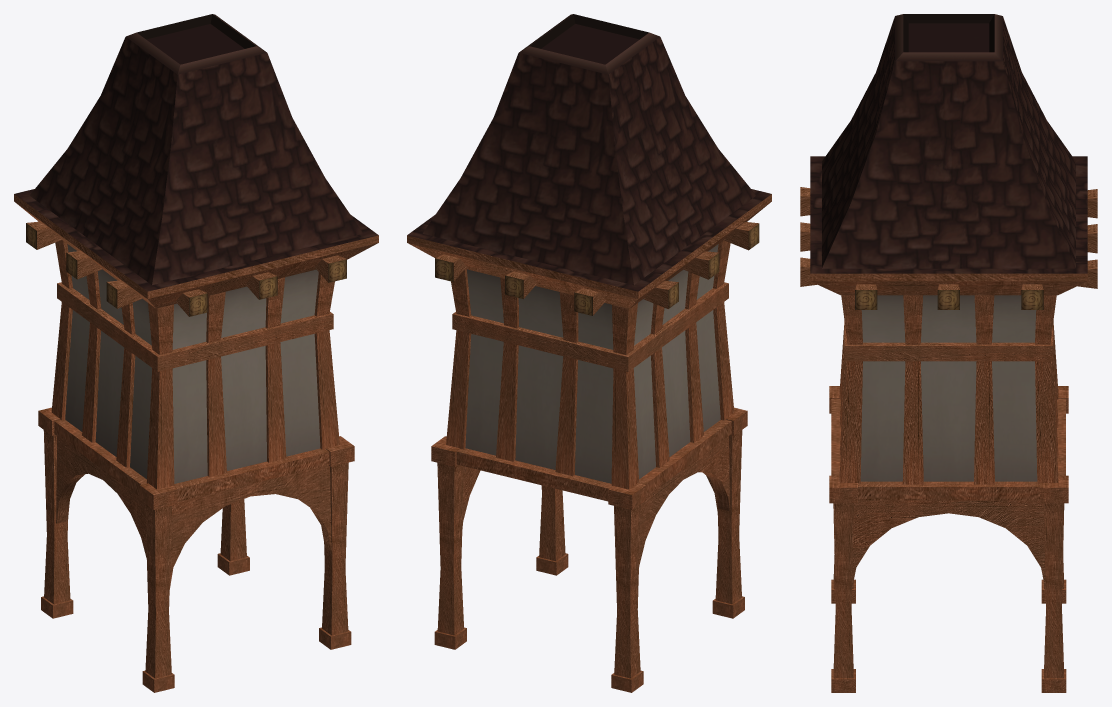
File: fanasty_mod_conjoining_piece_E.fbx
3 renders of one model, left to right at view 1: azimuth 30°, elevation 25°; view 2: azimuth 150°, elevation 25°; view 3: azimuth 270°, elevation 25°, orthographic. The views are drawn at different scales.
Visible parts, largest first — view 1: conjoining_piece_E; view 2: conjoining_piece_E; view 3: conjoining_piece_E.
Part boxes in pixels (box(x1,y1,x2,y2)): conjoining_piece_E: box(14, 14, 378, 692); conjoining_piece_E: box(407, 14, 771, 692); conjoining_piece_E: box(800, 14, 1097, 692).
Bounding box in the file's own units: 4.58 × 10.33 × 4.56.
